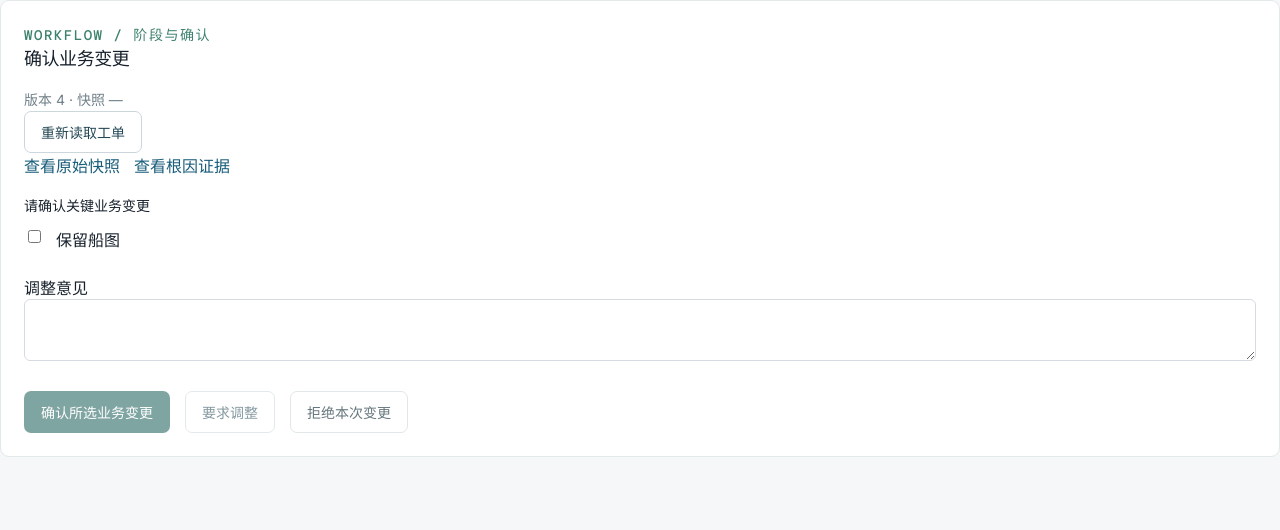
Test: workflow decisions › shows stale decision error rather than pretending confirmation succeeded
What coordinates should you click on to do the following:
click the checkbox labelled "保留船图"
I would click on:
 (34, 237)
Its box is [28,230,41,243].
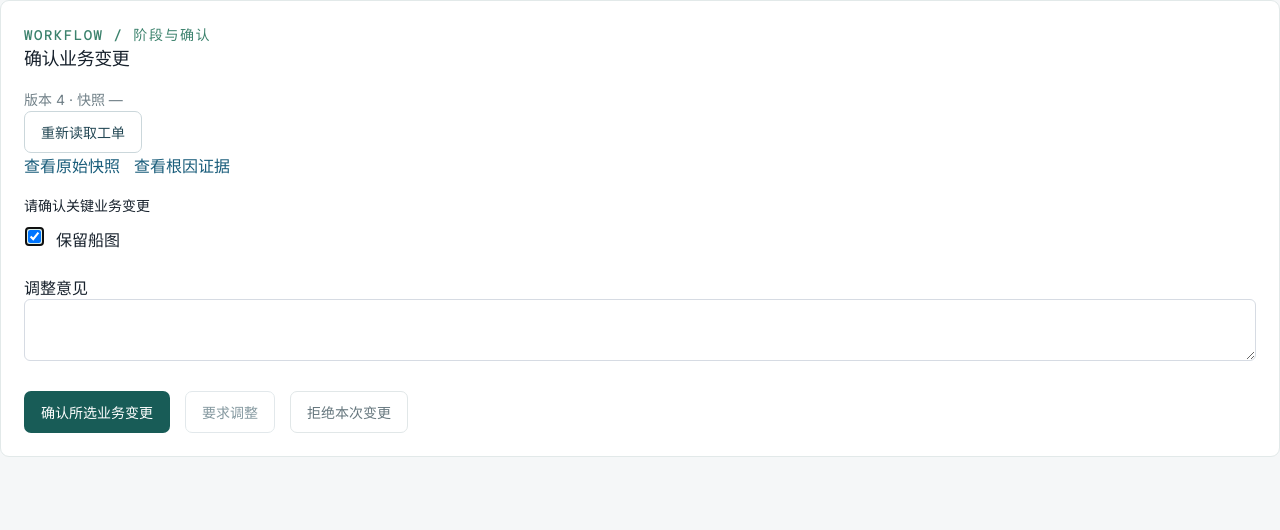
What coordinates should you click on to do the following:
click the button "确认所选业务变更"
I would click on:
 (97, 412)
Its box is [24,391,170,433].
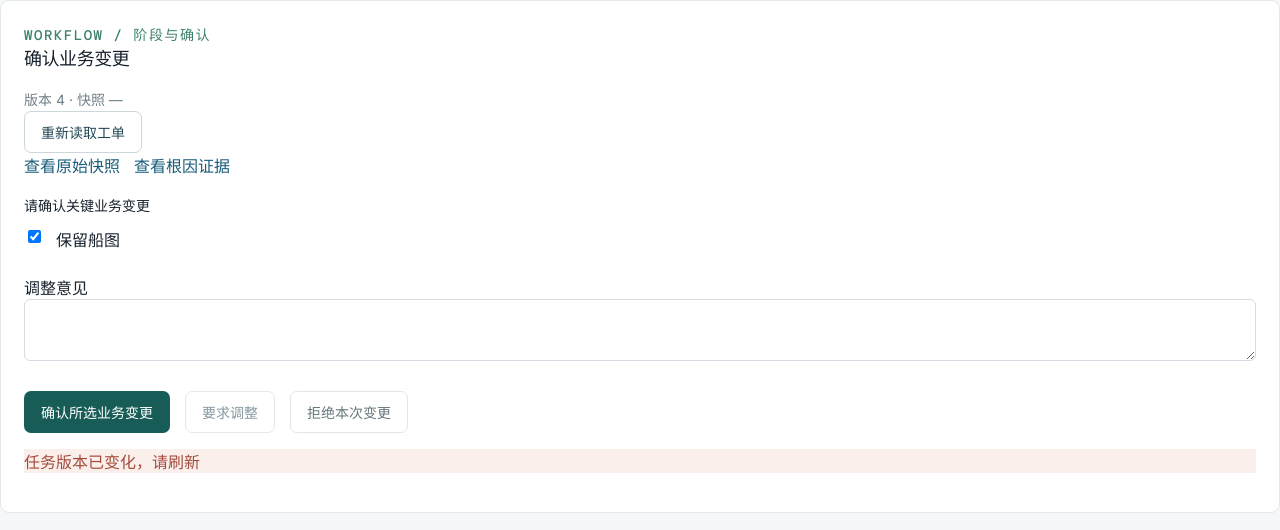
Now the message reads "任务版本已变化，请刷新", box [24,452,200,472]
